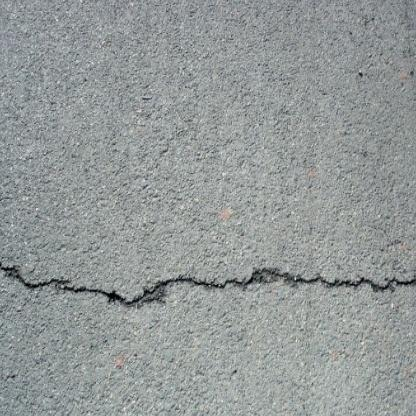Cracks: (0, 253, 416, 311)
